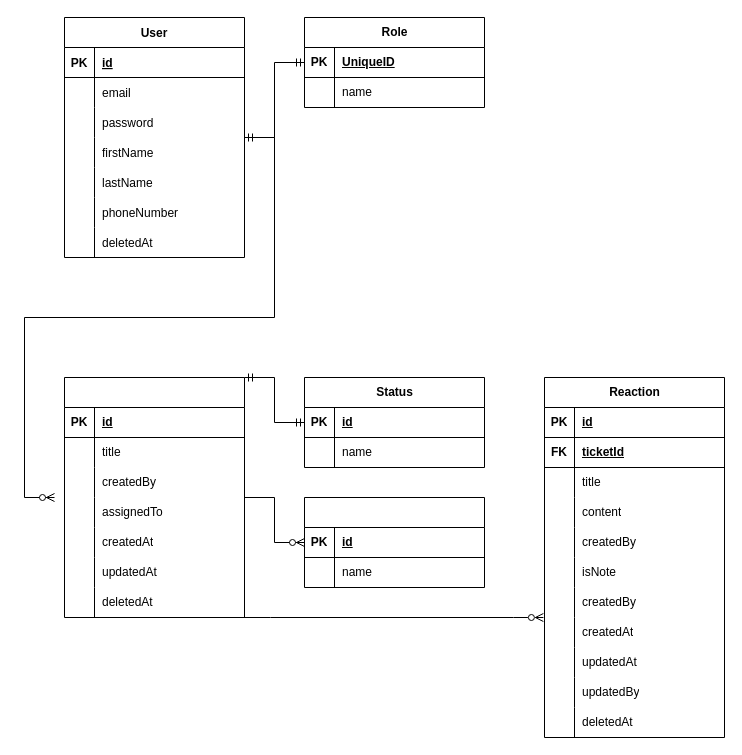
This 742x755 diagram has some shape labels left out. The box of each missing label's shape, as (x1, y1, x2, y2) in pixels:
Category: (304, 496, 484, 588)
Ticket: (64, 376, 244, 618)
